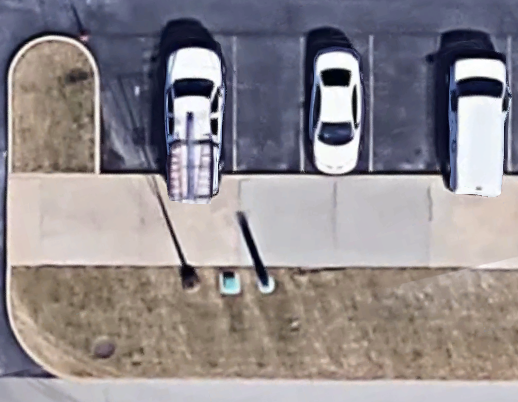Occupied: (164, 38, 235, 174), (441, 37, 510, 174), (302, 38, 371, 173)
Vacant: (371, 37, 440, 175), (97, 37, 166, 174), (235, 37, 302, 173)
